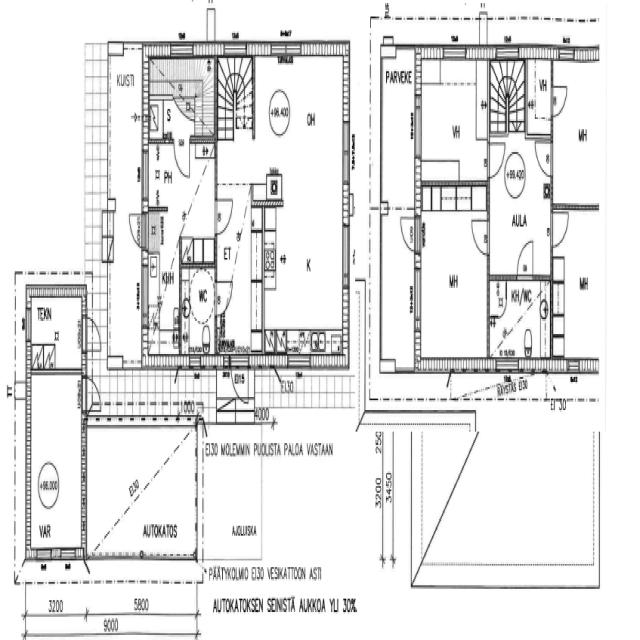door: (469, 213, 492, 258), (229, 359, 251, 405), (514, 235, 536, 279), (213, 192, 234, 238), (550, 205, 571, 250), (486, 136, 507, 180), (216, 382, 238, 424), (533, 136, 554, 178), (172, 136, 191, 179), (214, 276, 234, 316), (399, 212, 418, 254), (127, 211, 147, 249), (551, 82, 569, 120), (84, 376, 102, 412), (85, 314, 102, 350)
window: (50, 542, 82, 568), (340, 217, 352, 286), (341, 117, 352, 190), (270, 40, 302, 63), (412, 260, 422, 329), (141, 142, 151, 207), (413, 98, 423, 160), (443, 44, 468, 62), (498, 356, 519, 376), (179, 360, 198, 378), (122, 40, 143, 54)
zone: (218, 183, 348, 360), (216, 55, 346, 183), (416, 186, 489, 370), (29, 371, 85, 549), (488, 129, 553, 277), (417, 58, 488, 189), (146, 140, 216, 263), (551, 207, 601, 370), (552, 54, 602, 210), (380, 42, 416, 210), (487, 276, 551, 366), (28, 295, 85, 371), (180, 262, 217, 361), (144, 258, 178, 356), (525, 56, 552, 137), (145, 329, 179, 369), (150, 101, 167, 141)
